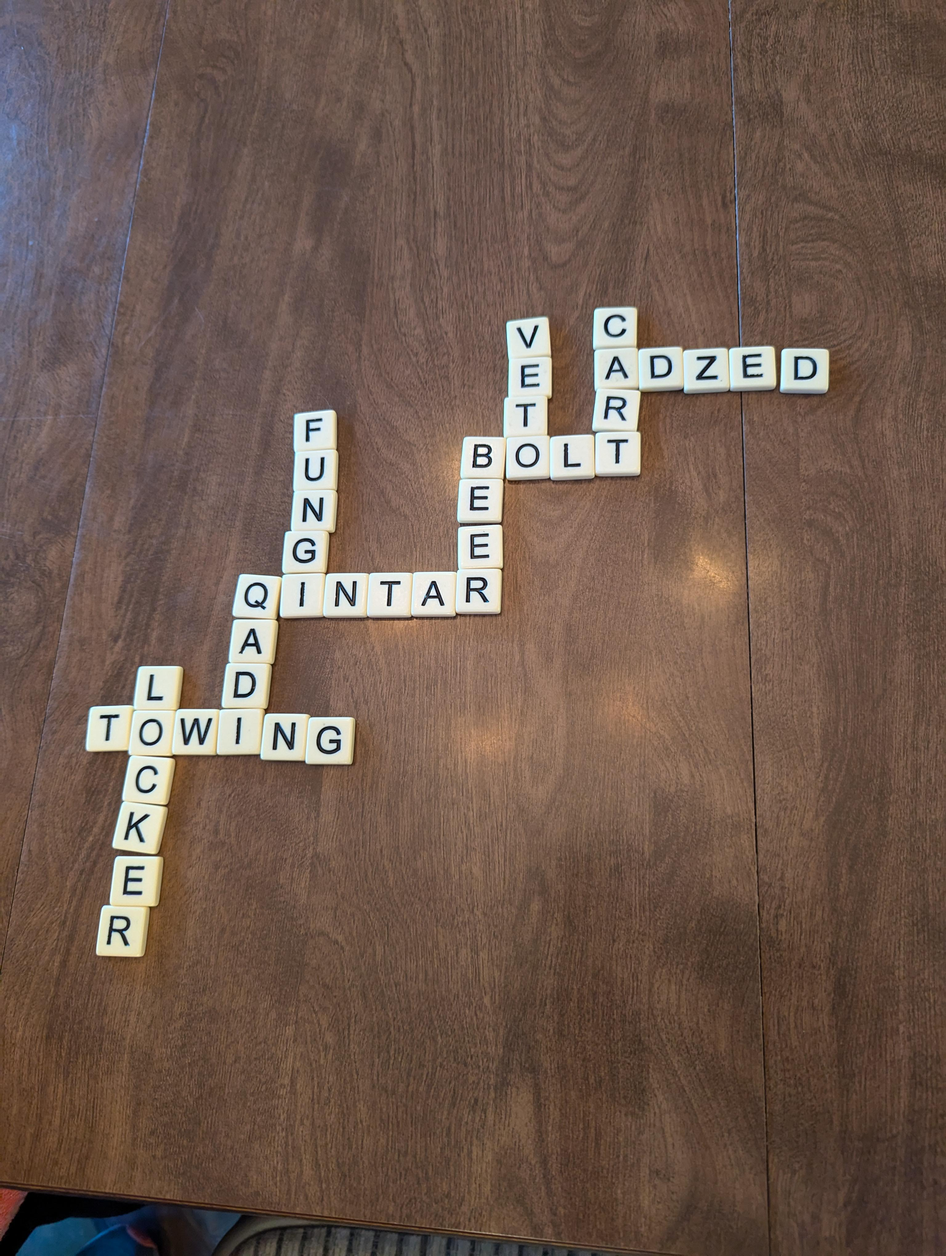Tile: (112, 801, 167, 855), (110, 855, 163, 907), (97, 906, 149, 957), (122, 756, 175, 806), (305, 717, 355, 764), (221, 663, 272, 709), (260, 714, 309, 761), (133, 666, 184, 710), (128, 709, 175, 756), (216, 709, 264, 755), (780, 348, 829, 393), (172, 709, 219, 755), (594, 430, 641, 476), (232, 574, 281, 618), (228, 619, 277, 663), (730, 346, 777, 391), (86, 706, 133, 751), (411, 571, 456, 617), (367, 572, 412, 618), (683, 348, 729, 393), (282, 530, 329, 574), (291, 489, 338, 533), (457, 479, 504, 523), (550, 433, 594, 480), (323, 573, 368, 618), (279, 574, 325, 618), (506, 434, 549, 481), (638, 347, 683, 391), (458, 525, 503, 569), (592, 391, 640, 432), (457, 569, 501, 613), (594, 348, 638, 391), (593, 307, 637, 350), (507, 356, 552, 398), (507, 317, 550, 360), (461, 437, 505, 479), (293, 410, 337, 452), (503, 396, 548, 437), (293, 450, 338, 491)
